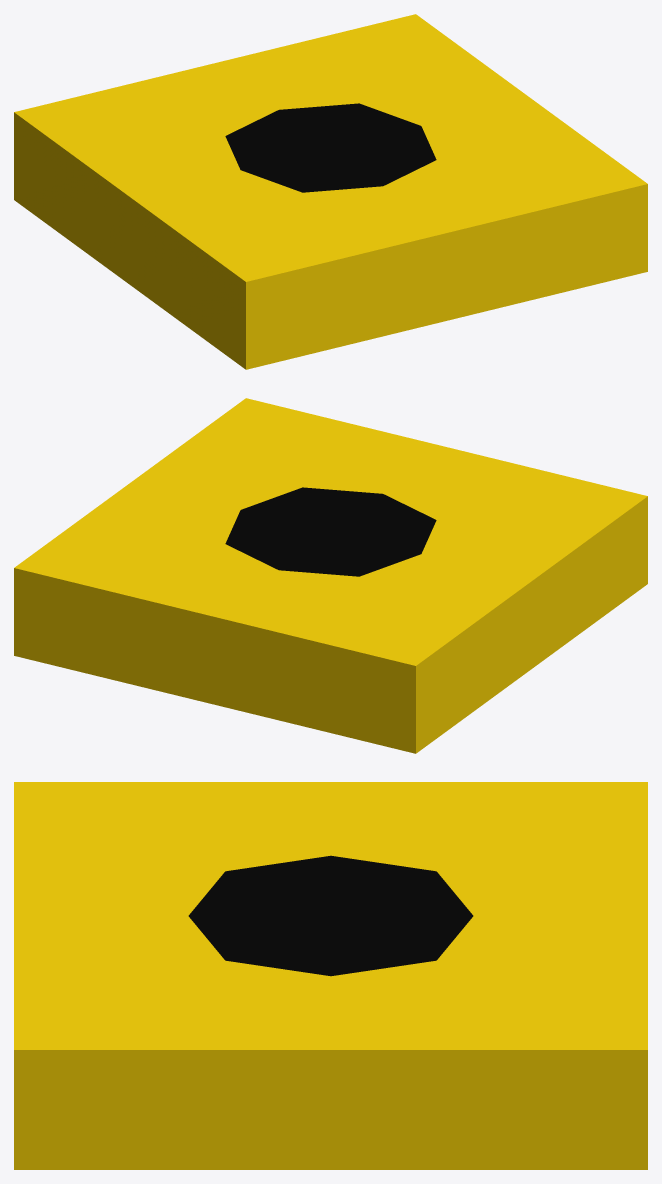
3 views of the same model, one above another, from view 1: azimuth 30°, elevation 25°; view 2: azimuth 150°, elevation 25°; view 3: azimuth 270°, elevation 25° (orthographic). The views are drawn at different scales.
Visible parts, largest first — view 1: Box; view 2: Box; view 3: Box.
Boxes of the visible parts, bbox=[...] form: Box: bbox=[14, 14, 647, 369]; Box: bbox=[14, 398, 647, 753]; Box: bbox=[14, 782, 647, 1169].
Size of the model in its own units: 52.72 by 11.01 by 52.72.
